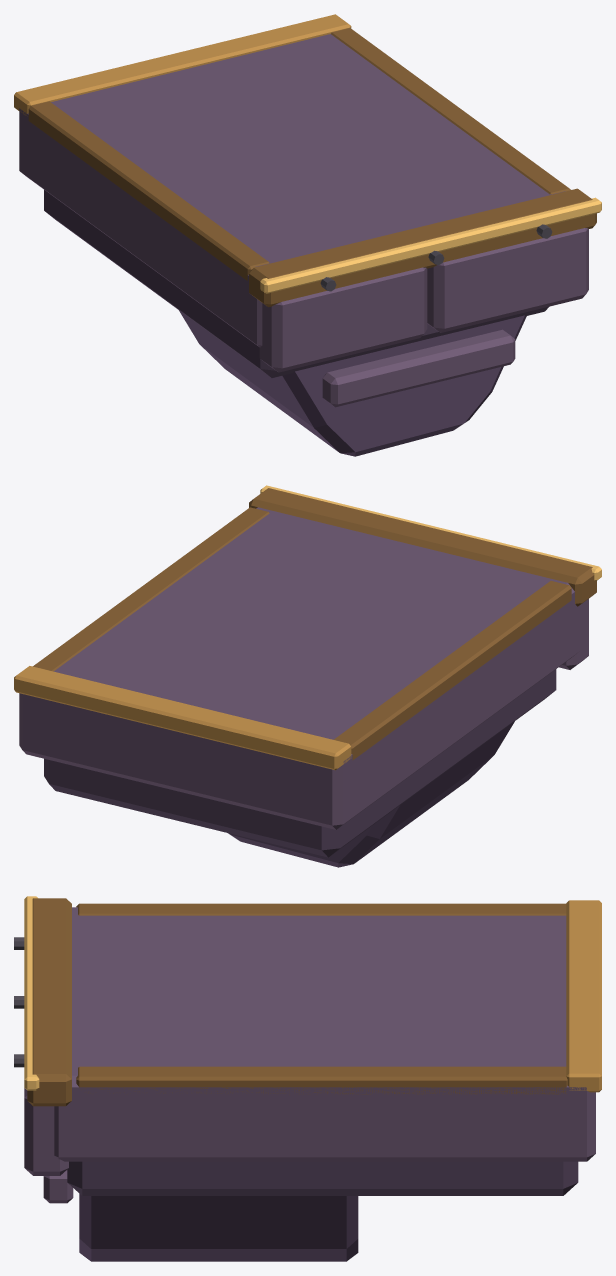
Rendered from SM_Vault_RetakeDeck_03.fbx.
3 views of the same model, one above another, from view 1: azimuth 30°, elevation 25°; view 2: azimuth 150°, elevation 25°; view 3: azimuth 270°, elevation 25° (orthographic). The views are drawn at different scales.
Parts seen in each view (by area): view 1: SM_Vault_RetakeDeck_03; view 2: SM_Vault_RetakeDeck_03; view 3: SM_Vault_RetakeDeck_03.
Part boxes in pixels (bbox=[...]): SM_Vault_RetakeDeck_03: bbox=[14, 14, 601, 456]; SM_Vault_RetakeDeck_03: bbox=[14, 485, 601, 867]; SM_Vault_RetakeDeck_03: bbox=[14, 896, 601, 1261].
Size of the model in its own units: 146 by 198 by 92.92.
